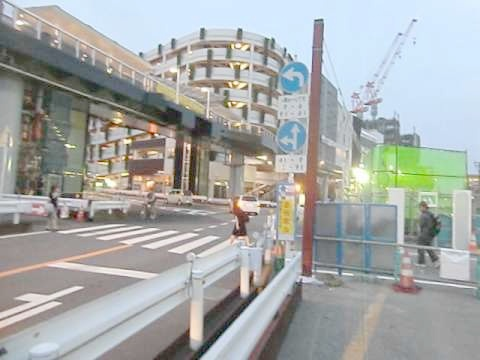Direction_sign: (272, 58, 312, 96), (273, 119, 310, 159)
